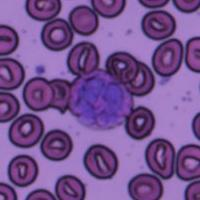E: (68, 69, 132, 130)
